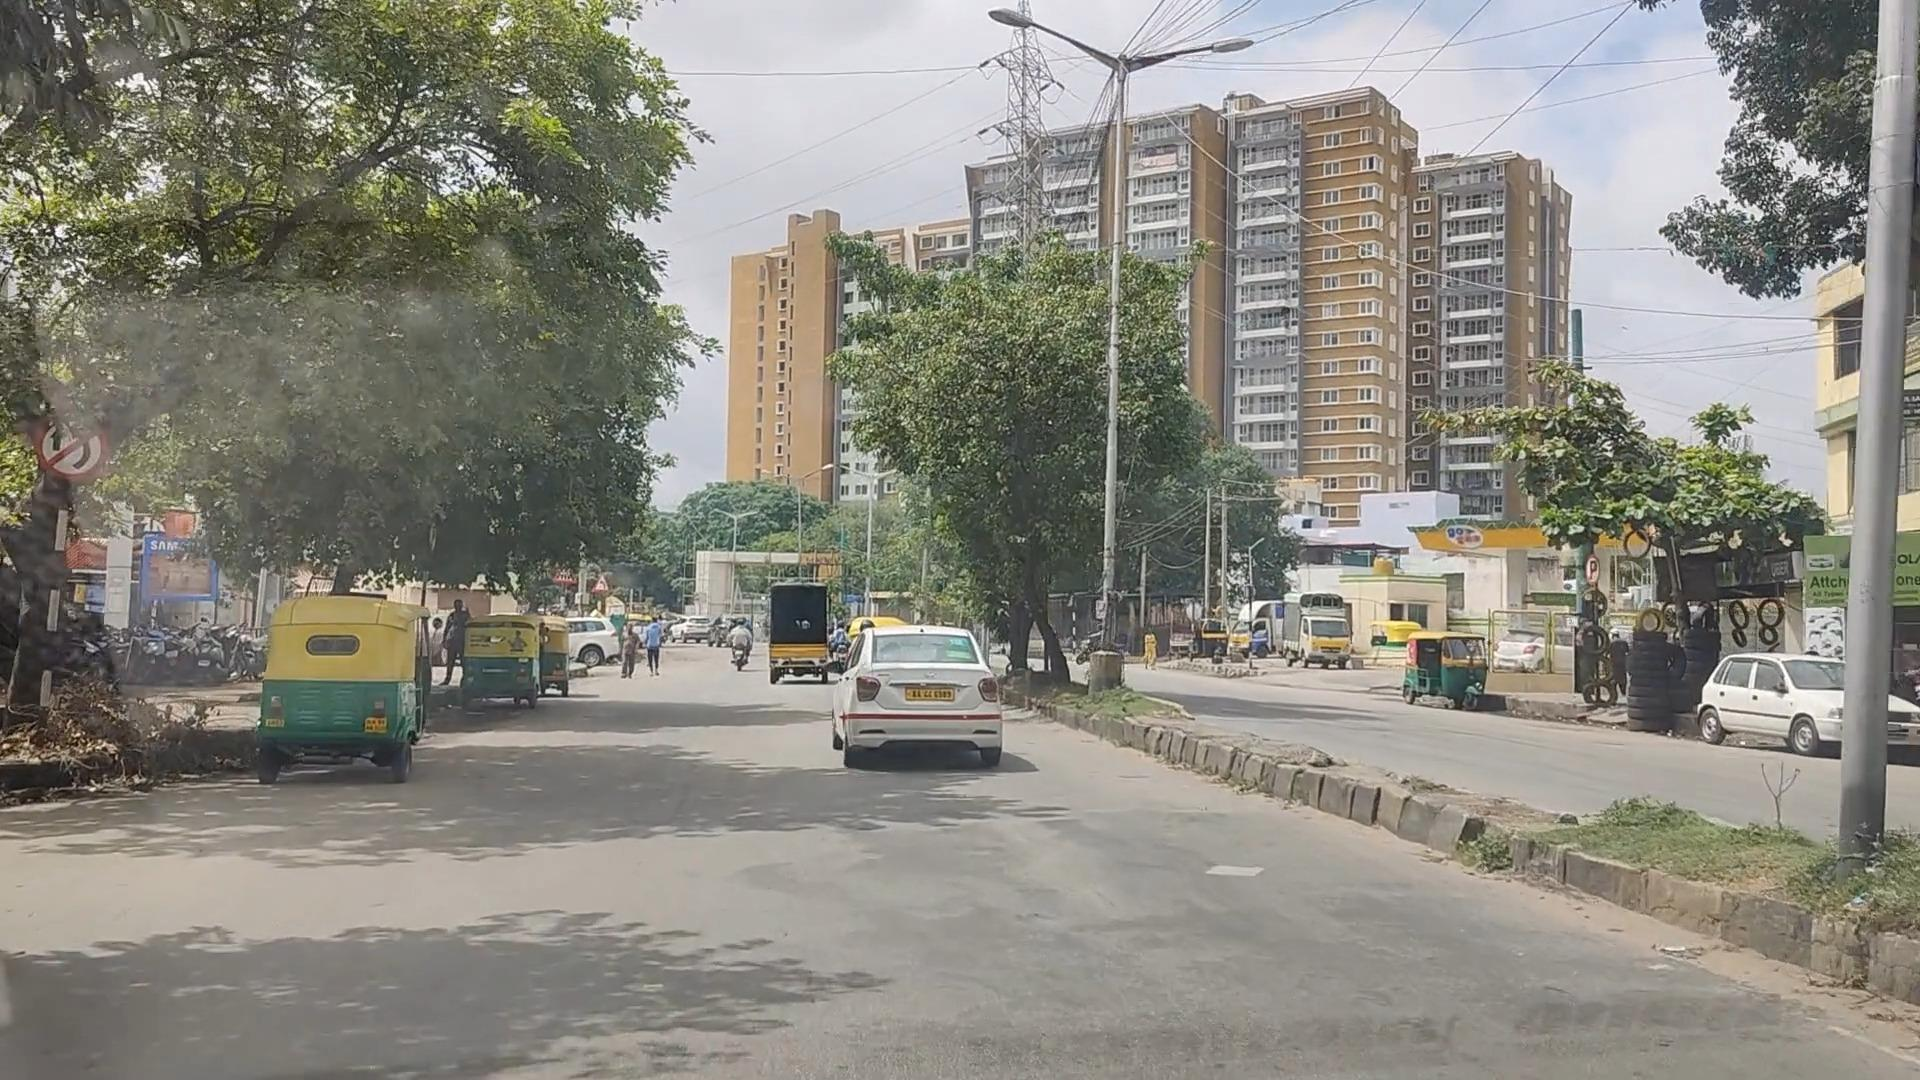LMV: (269, 591, 431, 777), (811, 630, 1005, 771)
